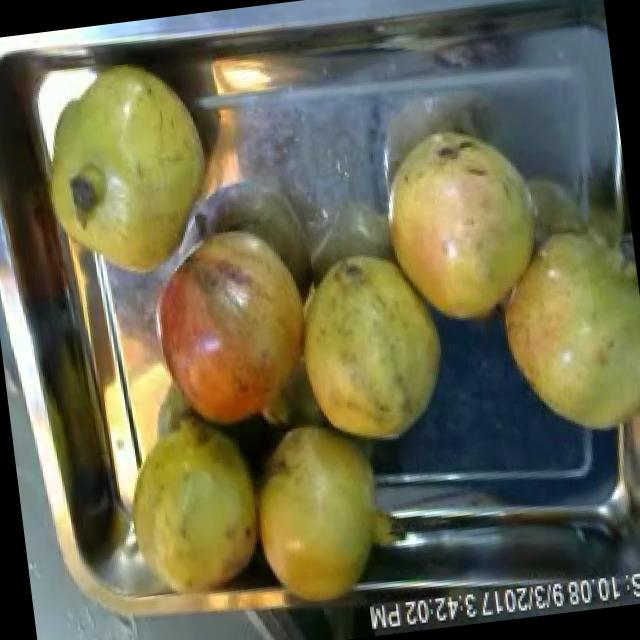fruit: (17, 42, 231, 306), (126, 197, 336, 455), (362, 101, 562, 339), (274, 226, 464, 464), (236, 400, 424, 622), (480, 209, 640, 459), (106, 398, 277, 611)
